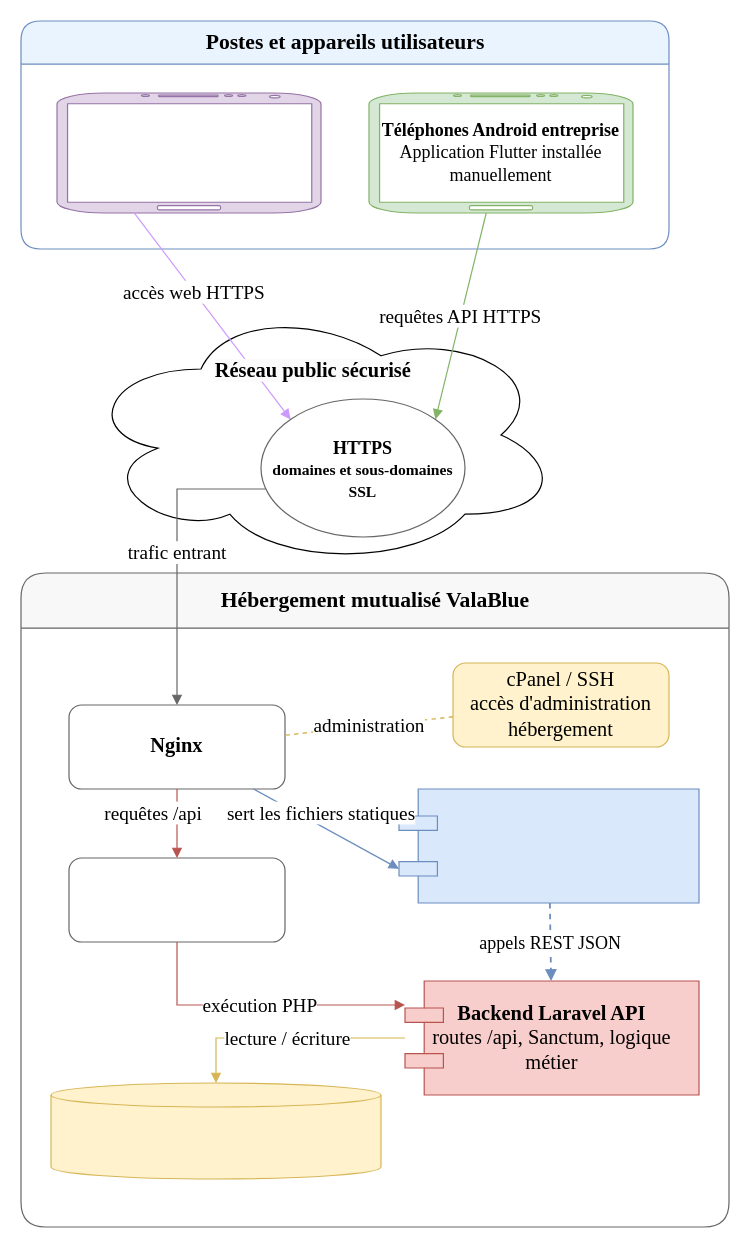
Some shapes in this 750 by 1248 pixel diagram are drawn without their labels. Here are the shapes that lost their labels. From the top down, the centre of each, then its label:
At point (188, 152): "Navigateur web Agent logistique / administration".
At point (548, 845): "Application web React fichiers statiques dist/ routage hash".
At point (176, 899): "PHP 8.2 + Composer".
At point (215, 1130): "Base de données production fournie par l'hébergeur".
